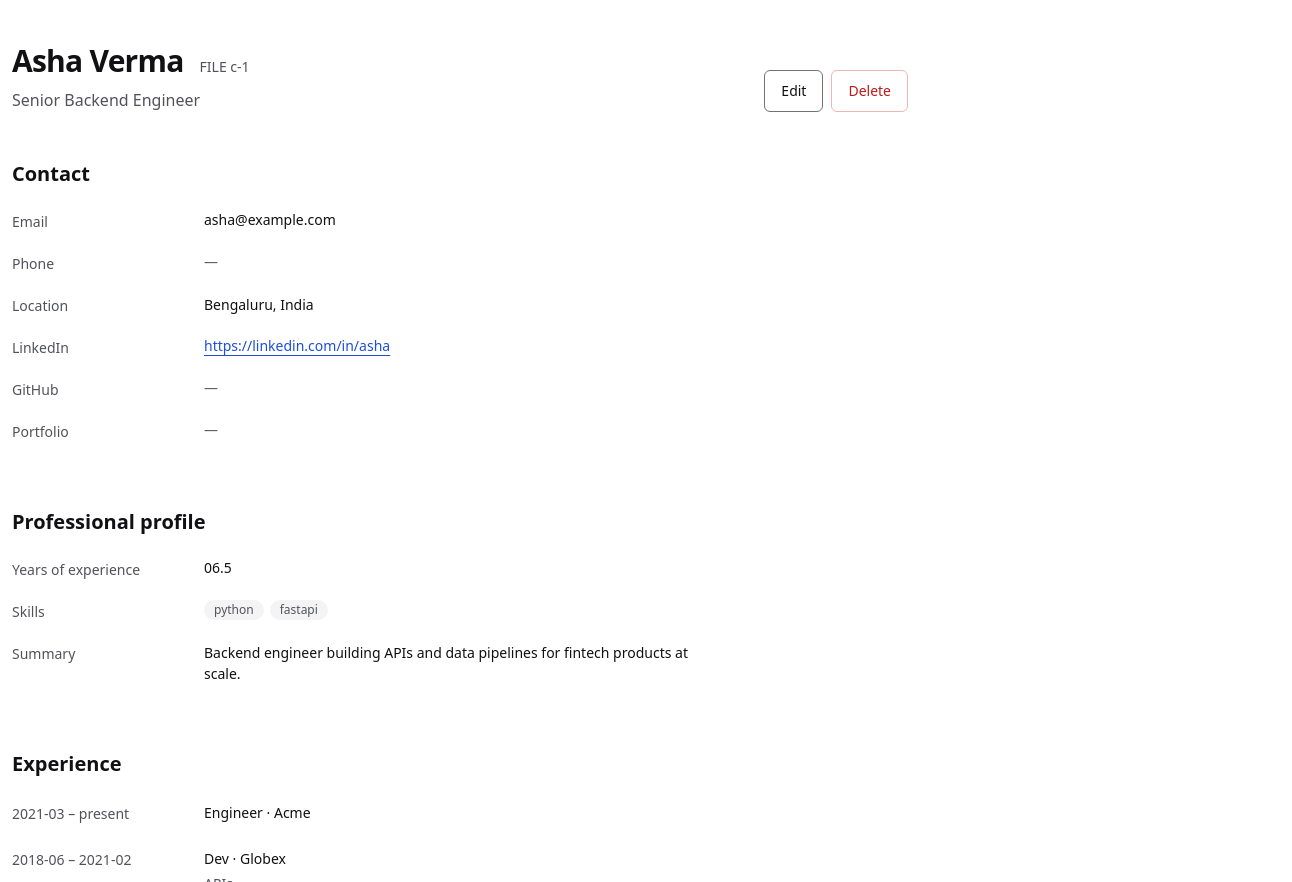
Test case: CandidateDetailPage › explains a version conflict and offers to reload
The image size is (1292, 882).
Click the button "Edit" at (794, 90), box top-left (764, 70), bottom-right (824, 112)
(page scrolled)
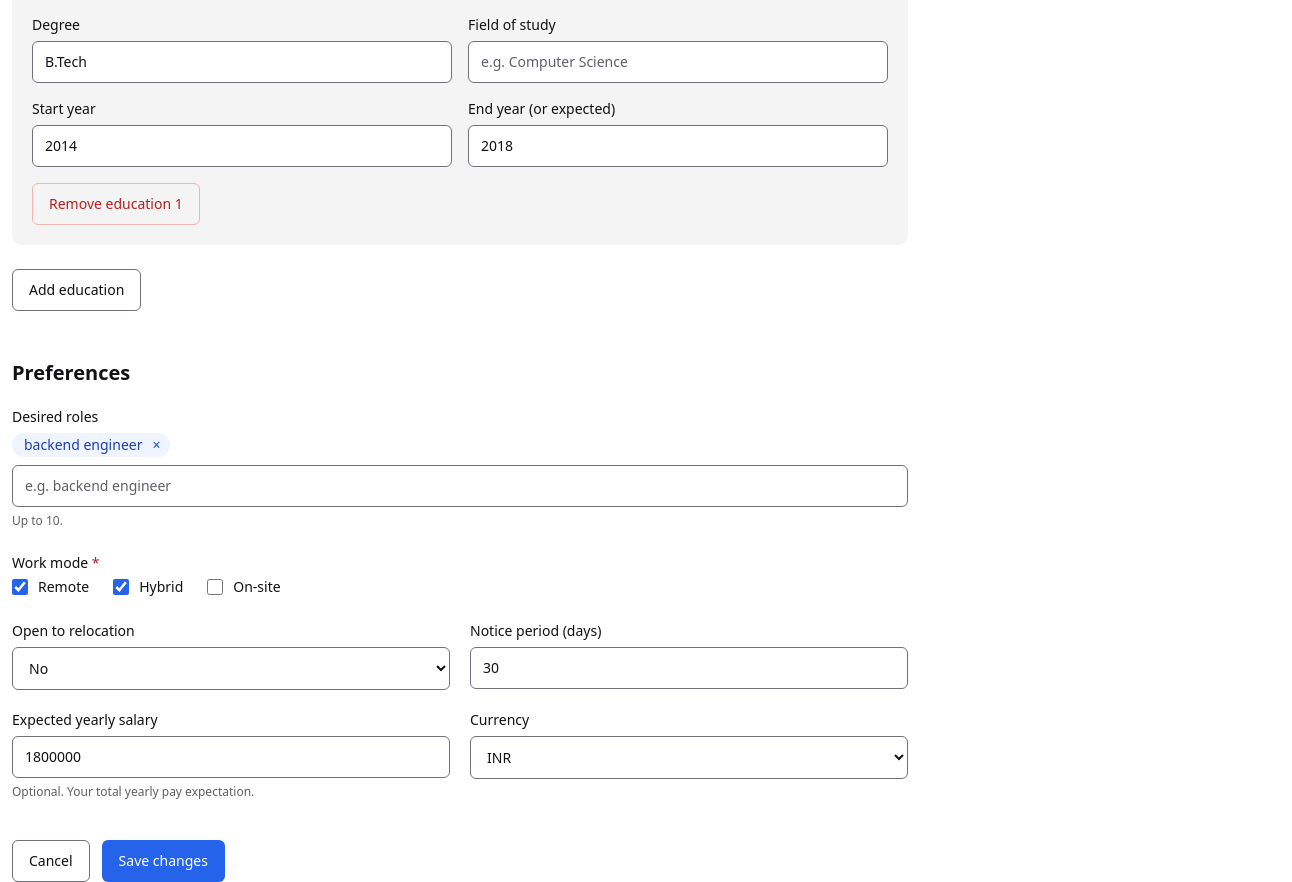
Click the button "Save changes" at (163, 861), box top-left (102, 840), bottom-right (225, 881)
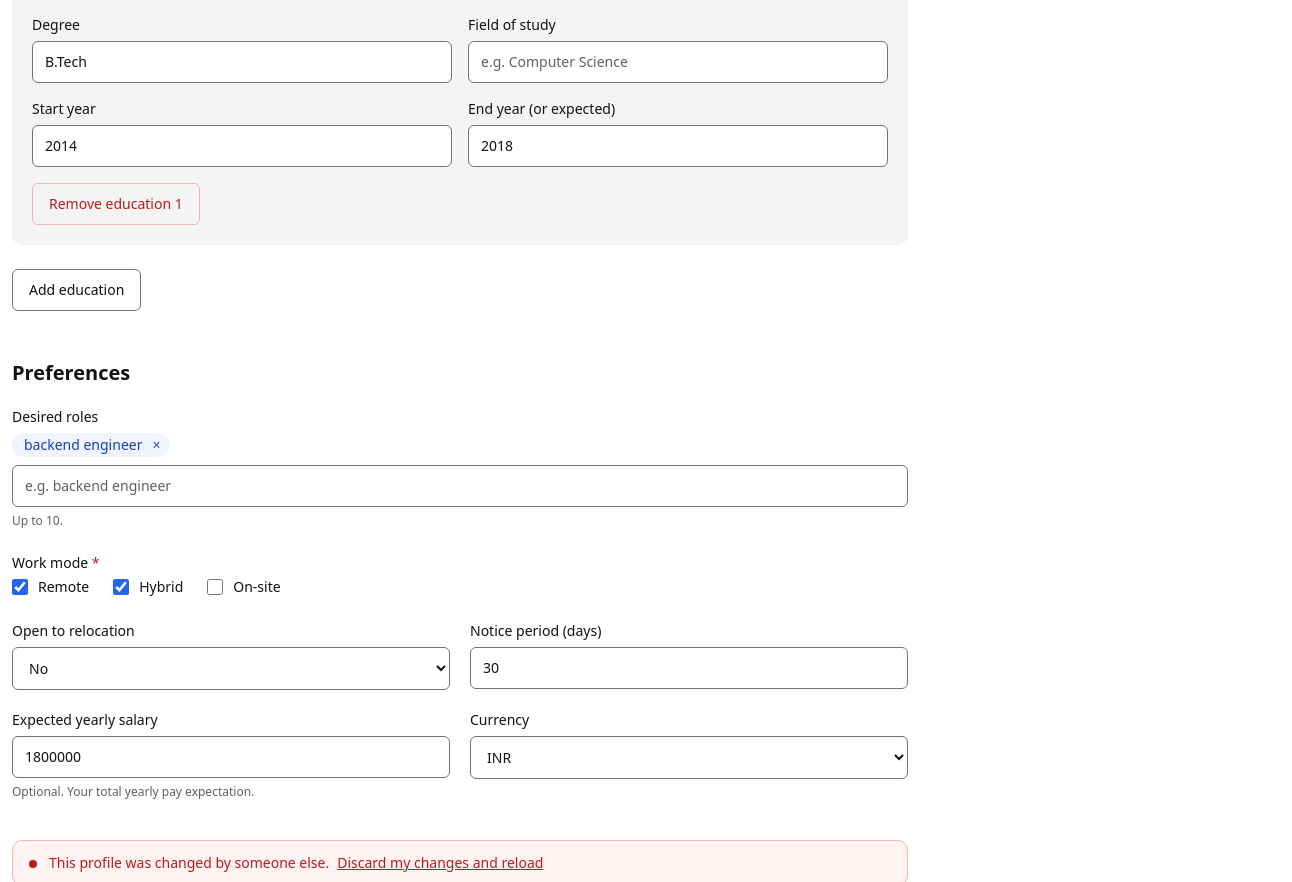
Check: the text "changed by someone else" is shown, box top-left (49, 853), bottom-right (329, 872)
Click the button "Discard my changes and reload" at (440, 863), box top-left (337, 853), bottom-right (543, 873)
(page scrolled)
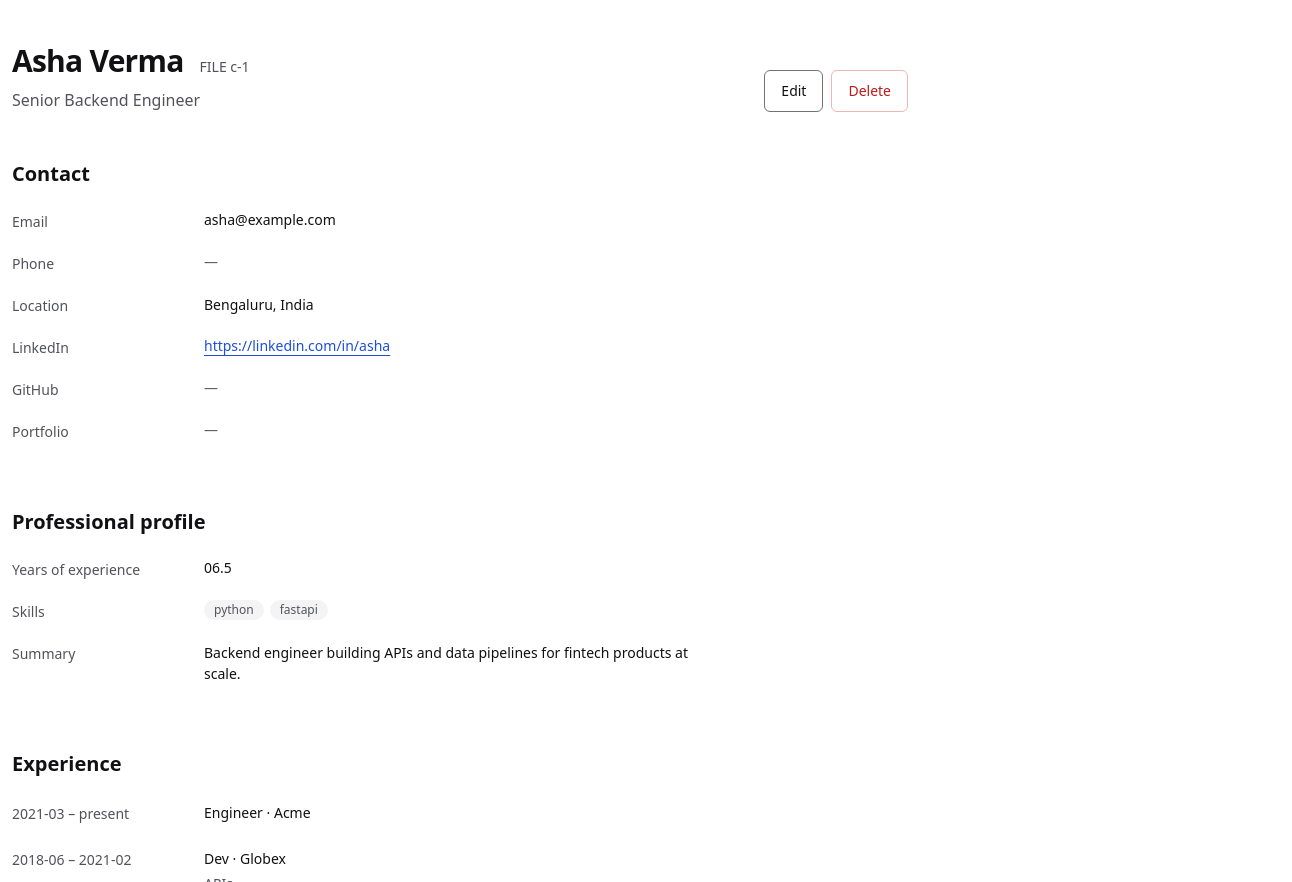
Check: the button "Edit" is shown, box top-left (764, 70), bottom-right (824, 112)
